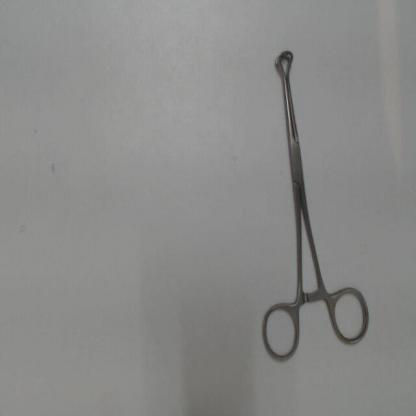Babcock Tissue Forceps: (256, 45, 374, 366)
